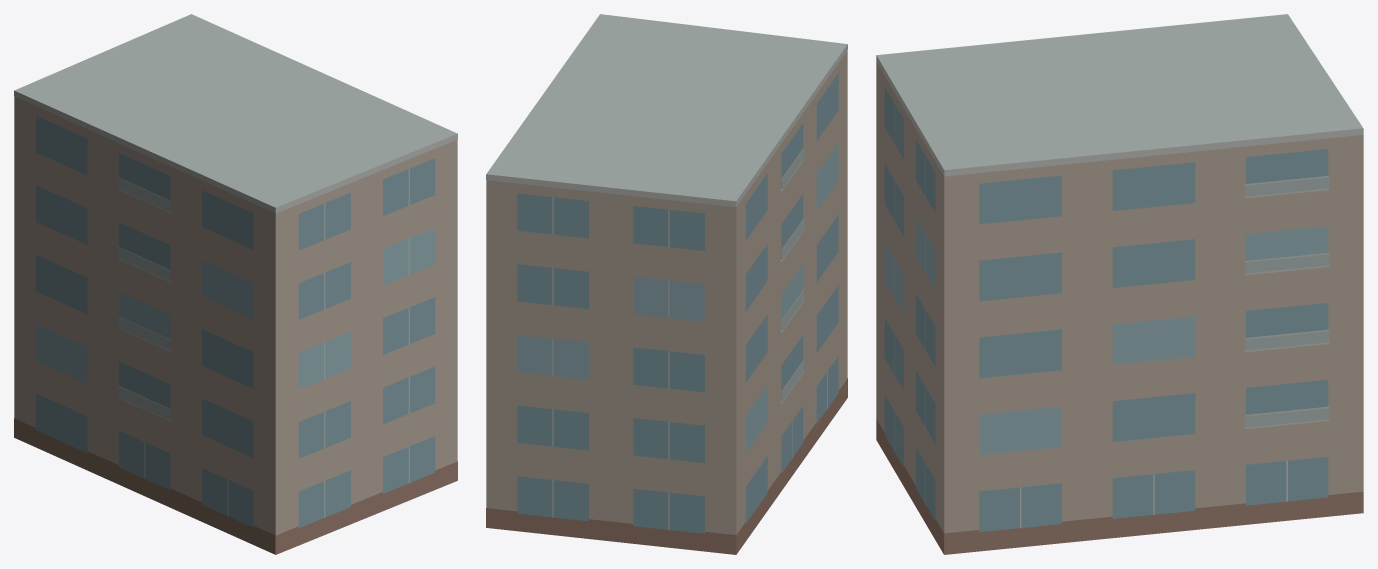
The model's file is survey-upis-32688997.glb.
3 views of the same model, side by side, from view 1: azimuth 30°, elevation 25°; view 2: azimuth 150°, elevation 25°; view 3: azimuth 270°, elevation 25° (orthographic). The views are drawn at different scales.
Parts seen in each view (by area): view 1: survey-upis-32688997.tmp; view 2: survey-upis-32688997.tmp; view 3: survey-upis-32688997.tmp.
Boxes of the visible parts, left/top/right/bottom form: survey-upis-32688997.tmp: left=14, top=14, right=457, bottom=554; survey-upis-32688997.tmp: left=486, top=14, right=847, bottom=554; survey-upis-32688997.tmp: left=876, top=14, right=1363, bottom=554.
Bounding box in the file's own units: 12.76 × 14.65 × 16.82.
